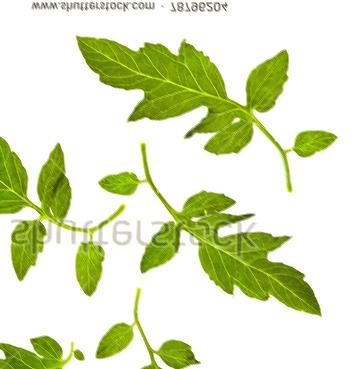Tomato leaf: (73, 18, 315, 193), (140, 152, 316, 322), (0, 102, 116, 300), (104, 248, 270, 369), (0, 323, 93, 369)
